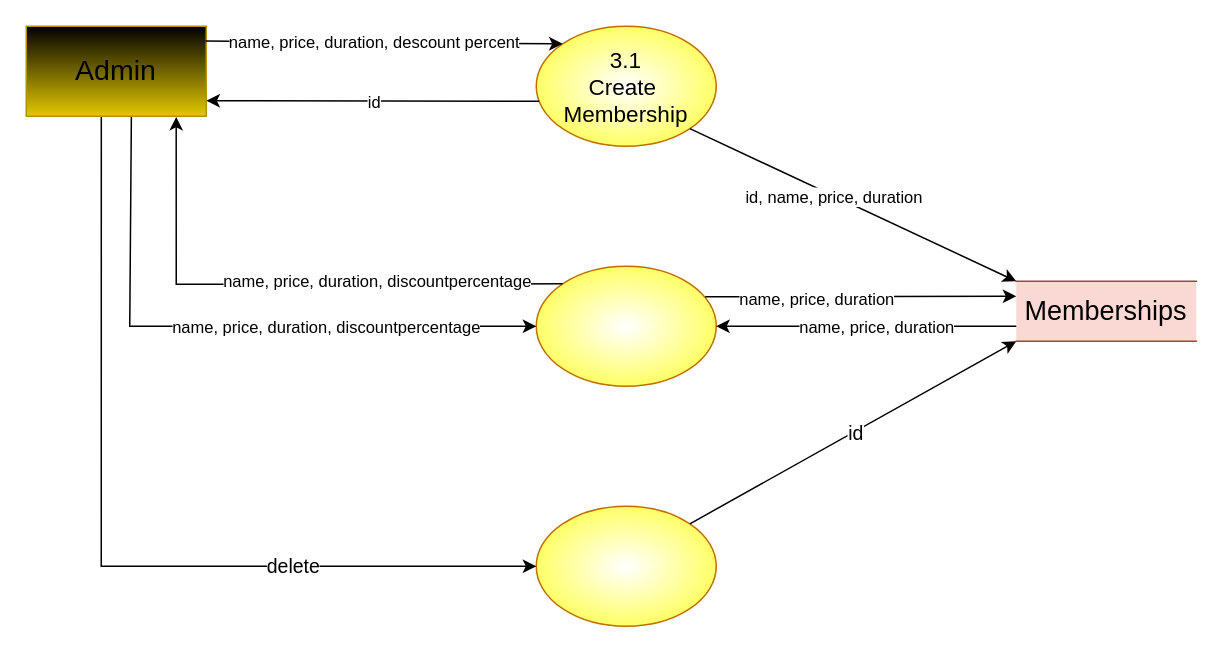
This 1223x653 diagram has some shape labels left out. Each missing label, with the centre of its shape:
"3.2 Update Membership Status" belongs at (x=625, y=325).
"3.3 Delete Membership" belongs at (x=625, y=565).
